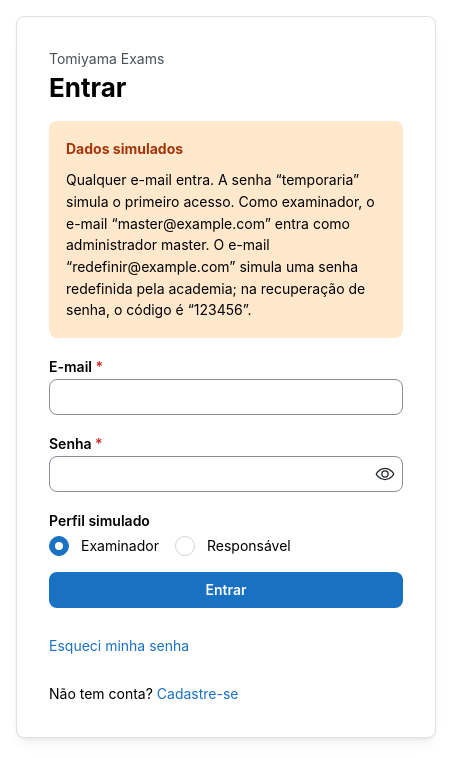
Test: recuperação de senha (§ 2, § 6.1): link no login › leva do login à etapa do e-mail, com o e-mail digitado e o foco no título
Type "mae@example.com" into the field labelled "E-mail *". click: point(226, 397)
box: top-left (49, 379), bottom-right (403, 415)
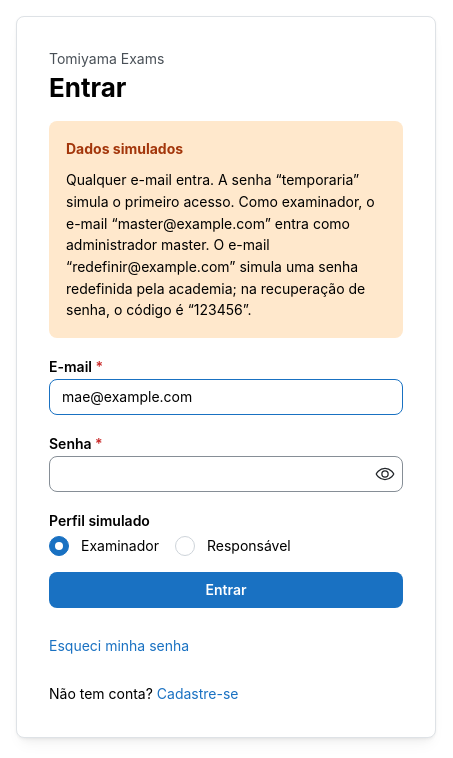
Click the link "Esqueci minha senha". click: point(119, 646)
box: top-left (49, 637), bottom-right (189, 654)
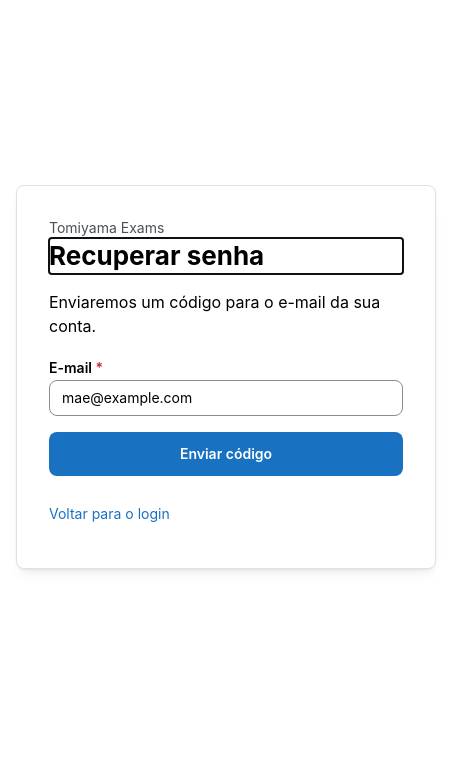
expect the field labelled "E-mail *" holds "mae@example.com": met, box top-left (49, 380), bottom-right (403, 416)
